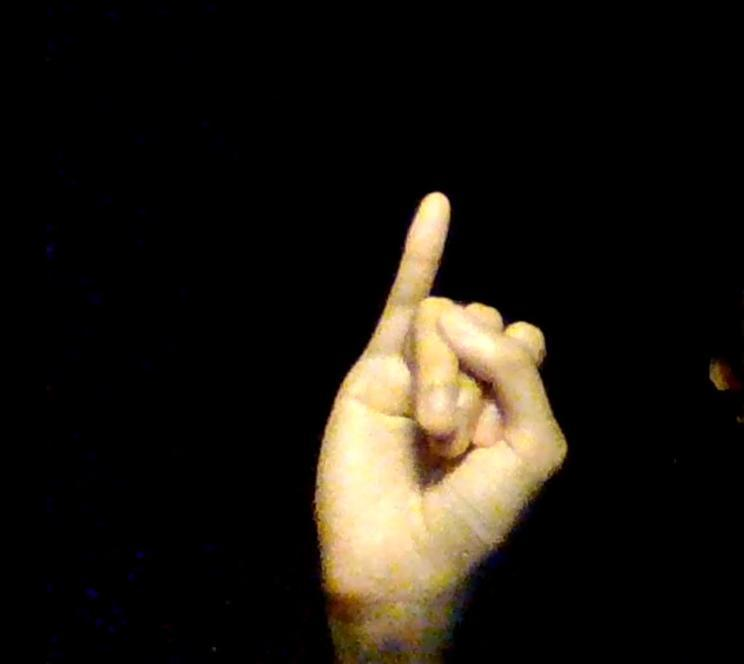i: (316, 194, 571, 605)
